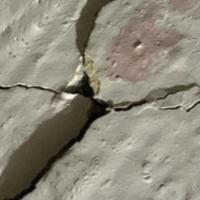crack: (0, 0, 175, 199)
